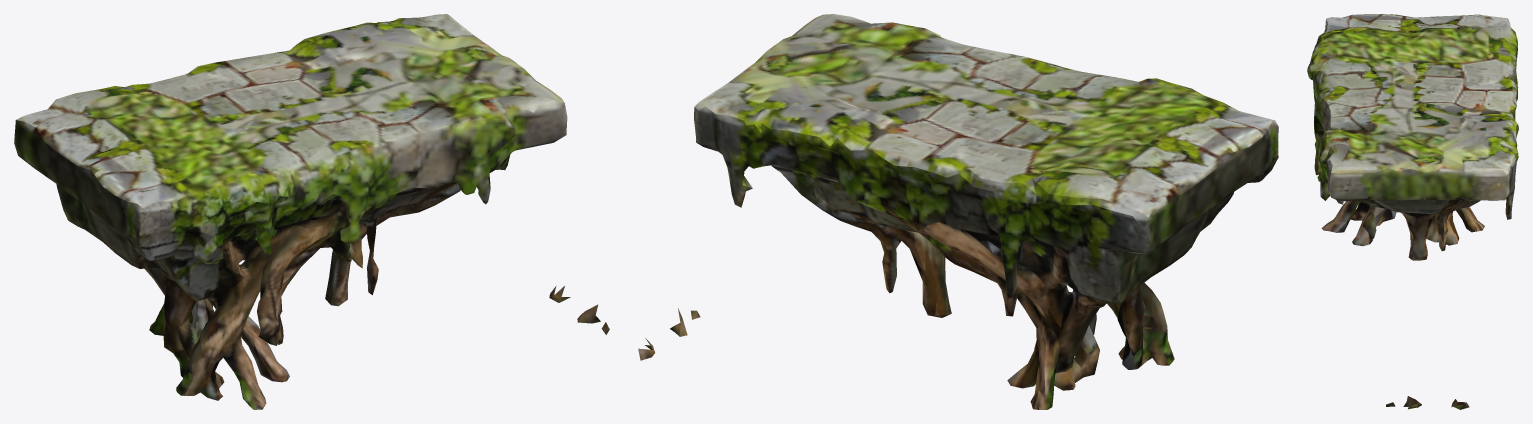
File: F3D_22_BrokenPlatform.fbx
3 views of the same model, side by side, from view 1: azimuth 30°, elevation 25°; view 2: azimuth 150°, elevation 25°; view 3: azimuth 270°, elevation 25° (orthographic). The views are drawn at different scales.
Parts seen in each view (by area): view 1: F3D_22_BrokenPlatform; view 2: F3D_22_BrokenPlatform; view 3: F3D_22_BrokenPlatform.
Boxes of the visible parts, x1,y1,x2,y2 form: F3D_22_BrokenPlatform: (14, 14, 609, 409); F3D_22_BrokenPlatform: (638, 14, 1278, 409); F3D_22_BrokenPlatform: (1307, 14, 1518, 409).
Bounding box in the file's own units: 1.85 × 1 × 0.8818.
Materials: 1 (1 with a texture image).
